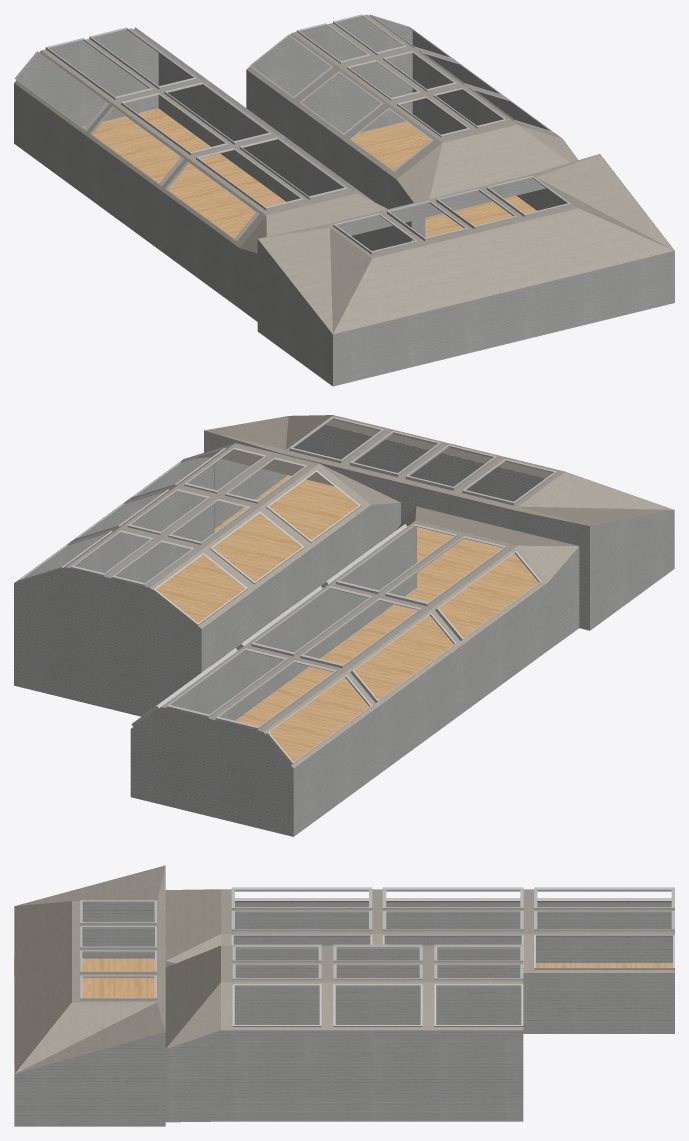
The model's file is GalerieV4.dae.
The picture shows the model from 3 angles, top to bottom: view 1: azimuth 30°, elevation 25°; view 2: azimuth 150°, elevation 25°; view 3: azimuth 270°, elevation 25°; orthographic projection. The views are drawn at different scales.
Visible parts, largest first — view 1: receptionRoom_roof, receptionRoom_wall, showRoom_painting_end_segment_wall, showRoom_sculpture_end_segment_wall, showRoom_sculpture_beginning_segment_roof, showRoom_painting_middle_segment_wall, showRoom_painting_beginning_segment_wall, showRoom_painting_beginning_segment_roof, showRoom_painting_end_segment_floor, showRoom_painting_middle_segment_floor, showRoom_sculpture_middle_segment_wall, showRoom_sculpture_beginning_segment_wall (+13 smaller); view 2: showRoom_sculpture_end_segment_wall, showRoom_painting_end_segment_wall, receptionRoom_wall, showRoom_painting_beginning_segment_wall, receptionRoom_roof, receptionRoom_floor, showRoom_painting_middle_segment_wall, showRoom_sculpture_beginning_segment_wall, showRoom_painting_beginning_segment_floor, showRoom_painting_beginning_segment_roof, showRoom_painting_middle_segment_floor, showRoom_sculpture_beginning_segment_floor (+13 smaller); view 3: showRoom_sculpture_beginning_segment_wall, receptionRoom_roof, showRoom_painting_end_segment_wall, showRoom_sculpture_middle_segment_wall, showRoom_sculpture_end_segment_wall, receptionRoom_wall, showRoom_sculpture_beginning_segment_roof, showRoom_painting_beginning_segment_roof, showRoom_painting_middle_segment_wall, showRoom_painting_beginning_segment_wall, showRoom_painting_end_segment_windowBorder, showRoom_painting_middle_segment_windowBorder (+11 smaller).
Part boxes in pixels (<box>): receptionRoom_roof: <box>258,154,674,334</box>; receptionRoom_wall: <box>257,154,674,386</box>; showRoom_painting_end_segment_wall: <box>14,29,233,198</box>; showRoom_sculpture_end_segment_wall: <box>246,16,462,144</box>; showRoom_sculpture_beginning_segment_roof: <box>346,88,578,202</box>; showRoom_painting_middle_segment_wall: <box>89,108,308,253</box>; showRoom_painting_beginning_segment_wall: <box>164,163,411,321</box>; showRoom_painting_beginning_segment_roof: <box>165,138,387,253</box>; showRoom_painting_end_segment_floor: <box>82,108,233,181</box>; showRoom_painting_middle_segment_floor: <box>157,163,285,236</box>; showRoom_sculpture_middle_segment_wall: <box>296,67,512,180</box>; showRoom_sculpture_beginning_segment_wall: <box>346,104,566,210</box>; showRoom_sculpture_end_segment_wall: <box>14,544,258,716</box>; showRoom_painting_end_segment_wall: <box>130,672,378,836</box>; receptionRoom_wall: <box>204,416,674,630</box>; showRoom_painting_beginning_segment_wall: <box>300,526,579,712</box>; receptionRoom_roof: <box>205,415,674,525</box>; receptionRoom_floor: <box>214,475,538,609</box>; showRoom_painting_middle_segment_wall: <box>215,611,463,774</box>; showRoom_sculpture_beginning_segment_wall: <box>127,457,400,589</box>; showRoom_painting_beginning_segment_floor: <box>301,588,577,693</box>; showRoom_painting_beginning_segment_roof: <box>331,506,579,644</box>; showRoom_painting_middle_segment_floor: <box>235,673,386,755</box>; showRoom_sculpture_beginning_segment_floor: <box>156,541,288,620</box>; showRoom_sculpture_beginning_segment_wall: <box>165,948,321,1122</box>; receptionRoom_roof: <box>14,865,165,1073</box>; showRoom_painting_end_segment_wall: <box>523,902,674,1033</box>; showRoom_sculpture_middle_segment_wall: <box>321,948,422,1121</box>; showRoom_sculpture_end_segment_wall: <box>422,948,523,1121</box>; receptionRoom_wall: <box>14,902,165,1126</box>; showRoom_sculpture_beginning_segment_roof: <box>165,945,321,1048</box>; showRoom_painting_beginning_segment_roof: <box>165,889,372,963</box>; showRoom_painting_middle_segment_wall: <box>384,902,523,1033</box>; showRoom_painting_beginning_segment_wall: <box>165,902,370,967</box>; showRoom_painting_end_segment_windowBorder: <box>534,887,674,969</box>; showRoom_painting_middle_segment_windowBorder: <box>382,887,523,969</box>.
Bounding box in the file's own units: 17.32 × 28.8 × 5.71.
